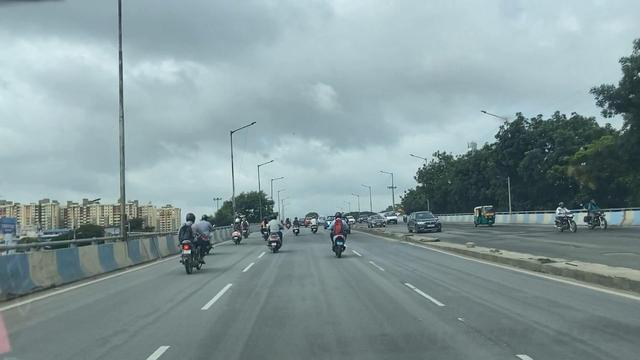LMV: (172, 207, 208, 274), (329, 212, 352, 258), (266, 214, 286, 254), (229, 211, 245, 246)
